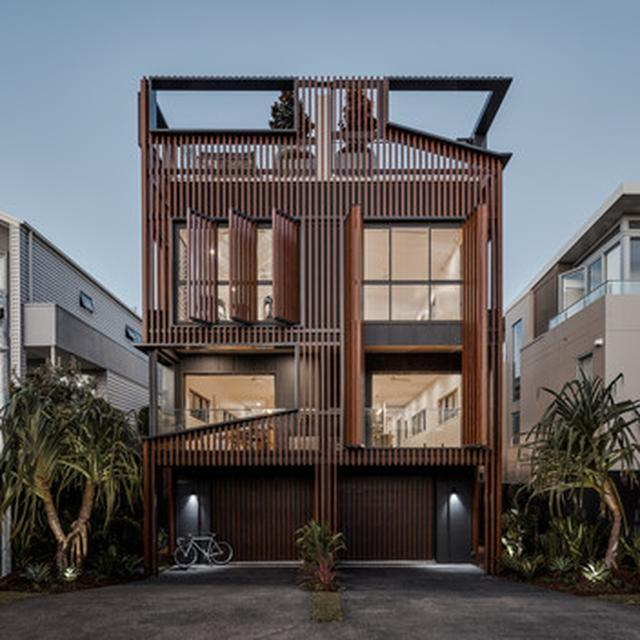building: (136, 72, 503, 580), (503, 182, 640, 488), (1, 208, 149, 414)
